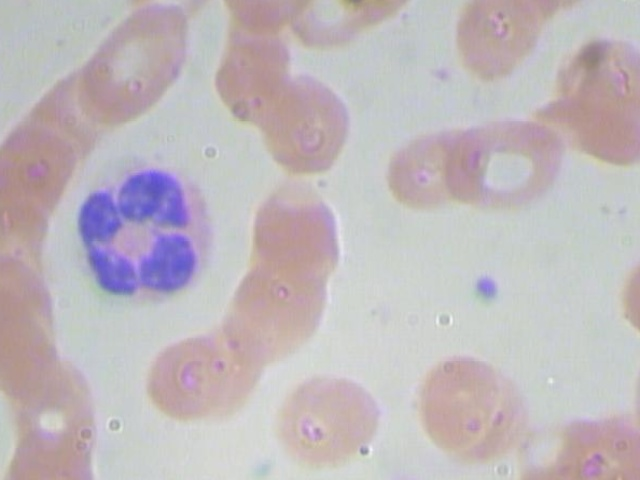Platelets: (459, 271, 520, 310)
RBC: (60, 0, 202, 127), (244, 62, 372, 184), (208, 252, 340, 368), (405, 349, 537, 465), (134, 311, 267, 426), (260, 359, 393, 474), (229, 176, 361, 291), (5, 45, 125, 170), (441, 116, 574, 215), (0, 107, 80, 239), (530, 88, 640, 181), (10, 348, 100, 460), (438, 0, 553, 87), (377, 123, 485, 215), (542, 31, 640, 130), (0, 177, 72, 311), (213, 22, 302, 124), (0, 251, 67, 362), (0, 300, 67, 410), (0, 420, 97, 480), (281, 0, 380, 51), (208, 0, 310, 27)
WBC: (65, 161, 228, 307)
